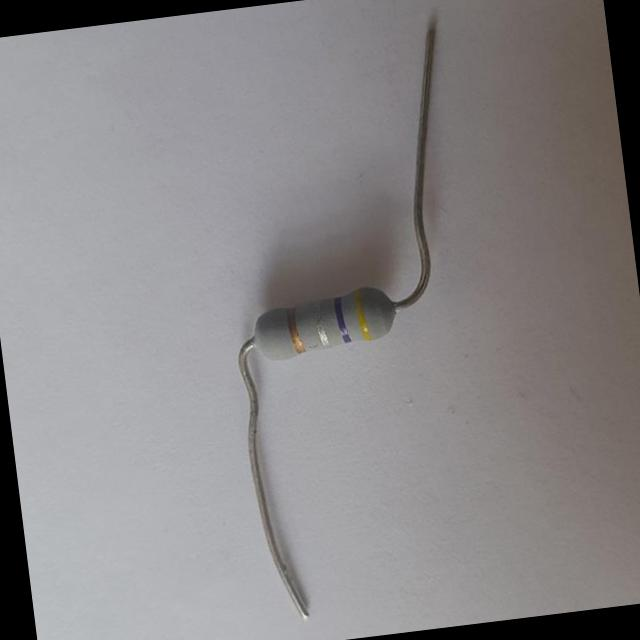Resistor: (254, 289, 394, 360)
gold: (286, 308, 305, 354)
purple: (333, 296, 351, 343)
silver: (311, 301, 331, 348)
yellow: (350, 286, 370, 342)
